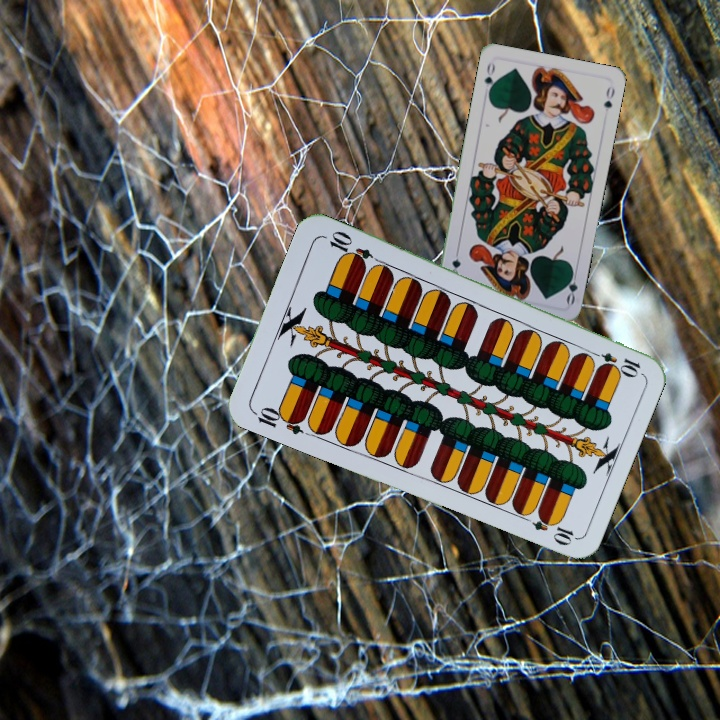E10: (248, 402, 307, 437), (585, 346, 643, 378)
GO: (561, 265, 580, 307), (480, 58, 498, 99)
